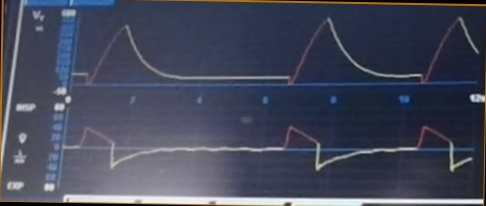Flow: (68, 116, 472, 186)
Leakage Volume: (78, 10, 479, 91)
